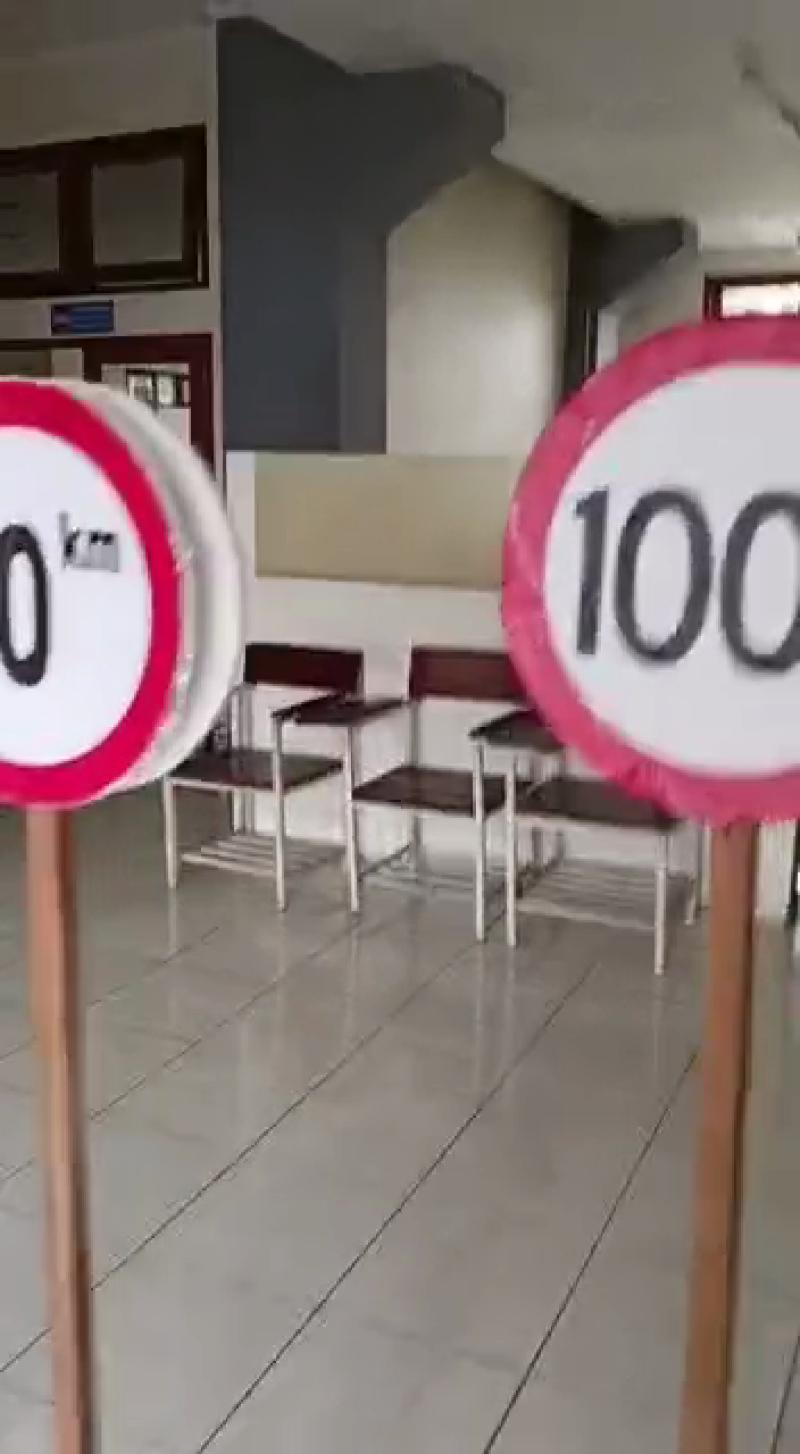batas maksimal 100kmperjam: (476, 295, 800, 838)
